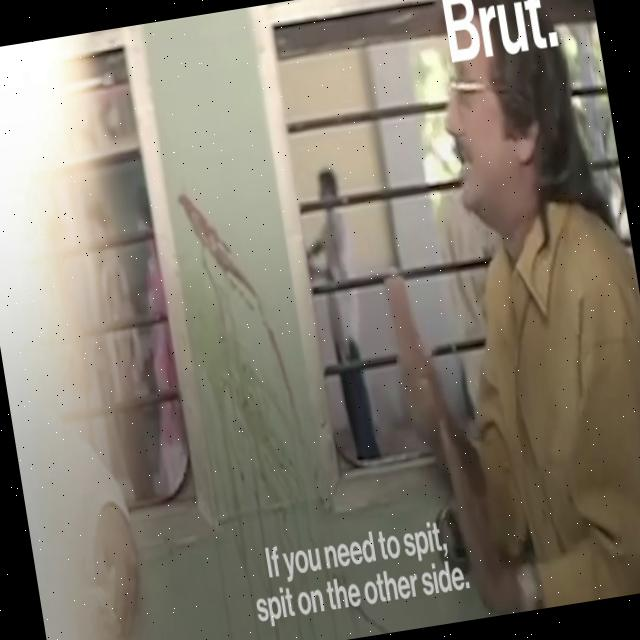spit: (157, 141, 328, 496)
